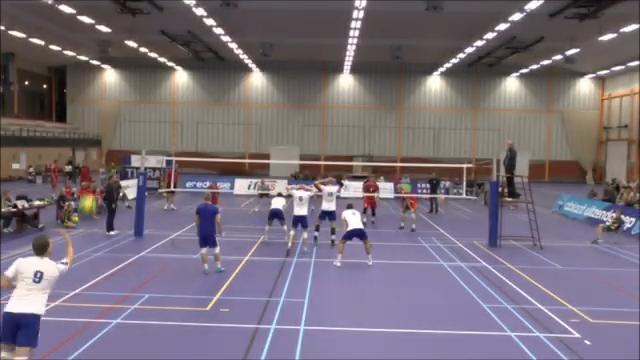Player: (334, 204, 372, 266), (195, 193, 224, 273), (314, 177, 341, 246), (287, 185, 313, 252), (264, 193, 286, 238), (398, 185, 418, 231), (362, 175, 379, 226), (254, 179, 270, 210), (208, 179, 218, 204)
Serve: (0, 220, 76, 359)
ball: (77, 194, 97, 217)
